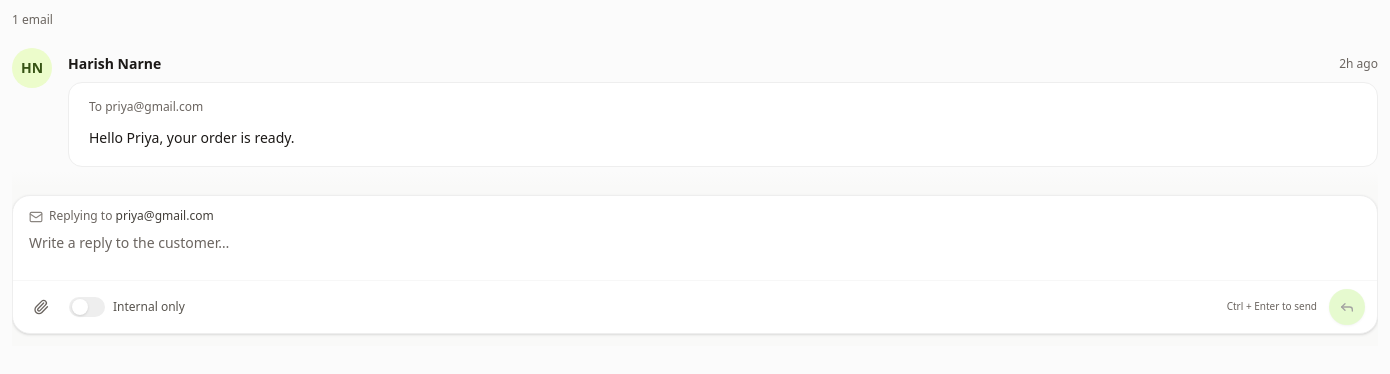
Test: RecordCommunicationTab reply box › keeps the text and shows the reason when the send fails
In the text box: (695, 252) [13,224,1377,280], type "Important"
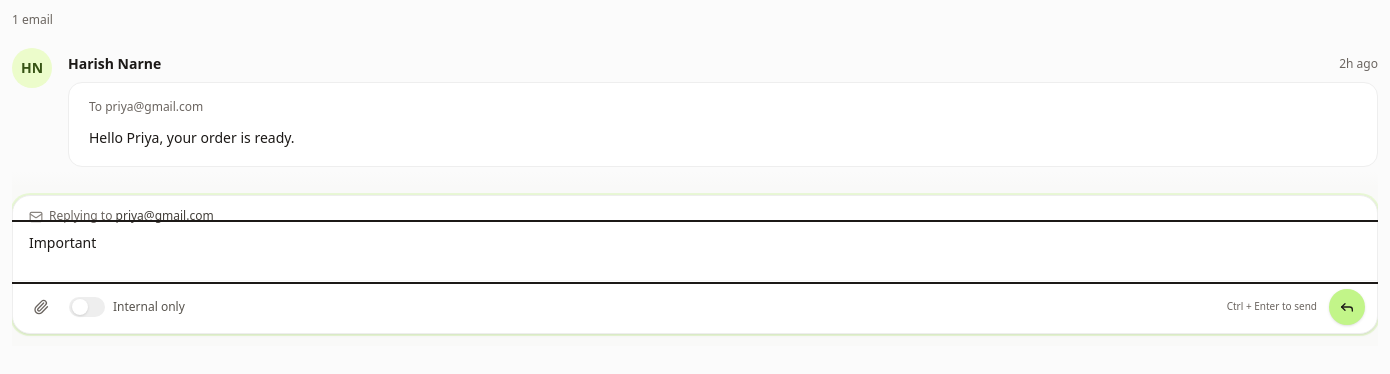
Click the button named "Send reply": (1347, 307) [1329,289,1365,325]
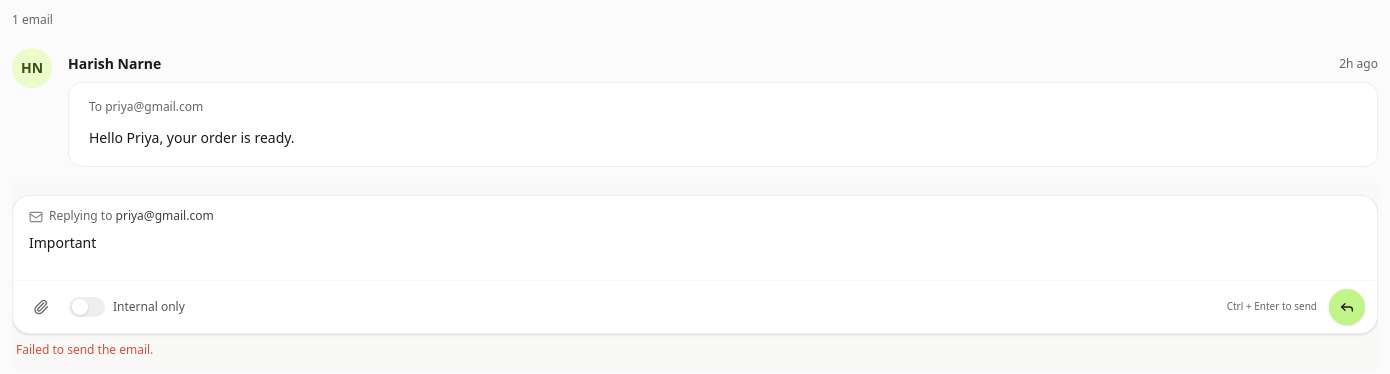
Now the message reads "Failed to send the email.", box [16,341,153,358]
